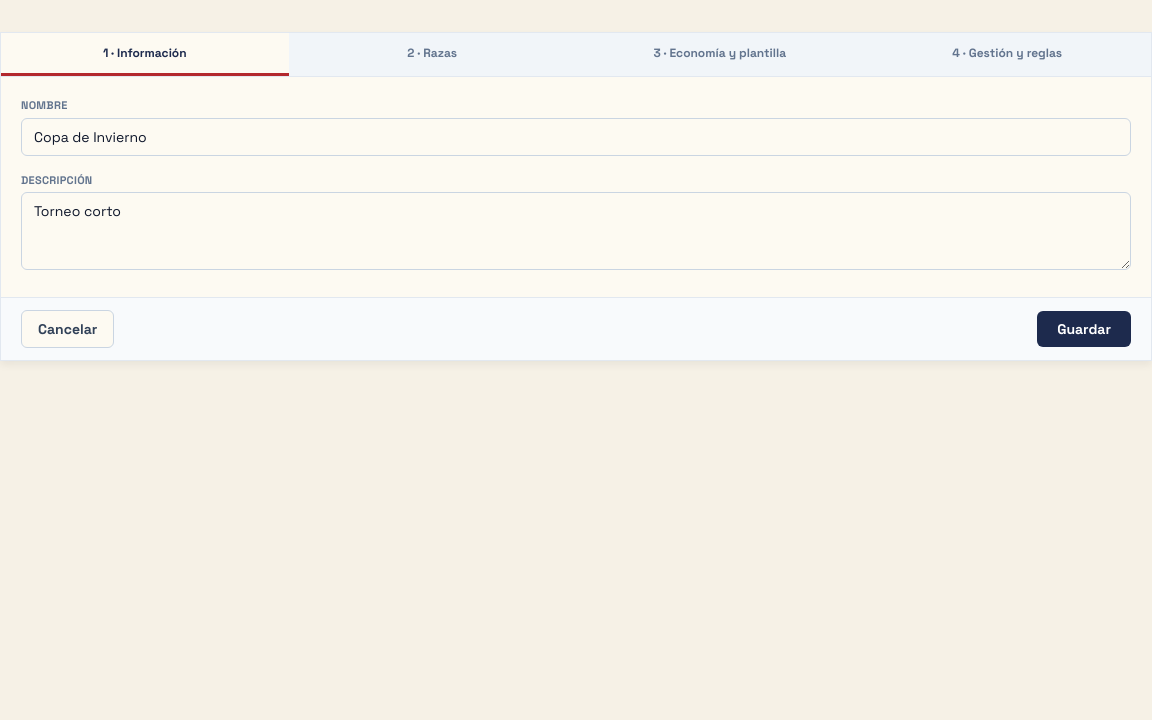
RulesetEditor › Descartar cambios resets the leaving tab's fields and navigates
Step 1. Replace the text in the field labelled "Nombre" with "Cambiado" → [576, 136], box left=21, top=118, right=1131, bottom=156
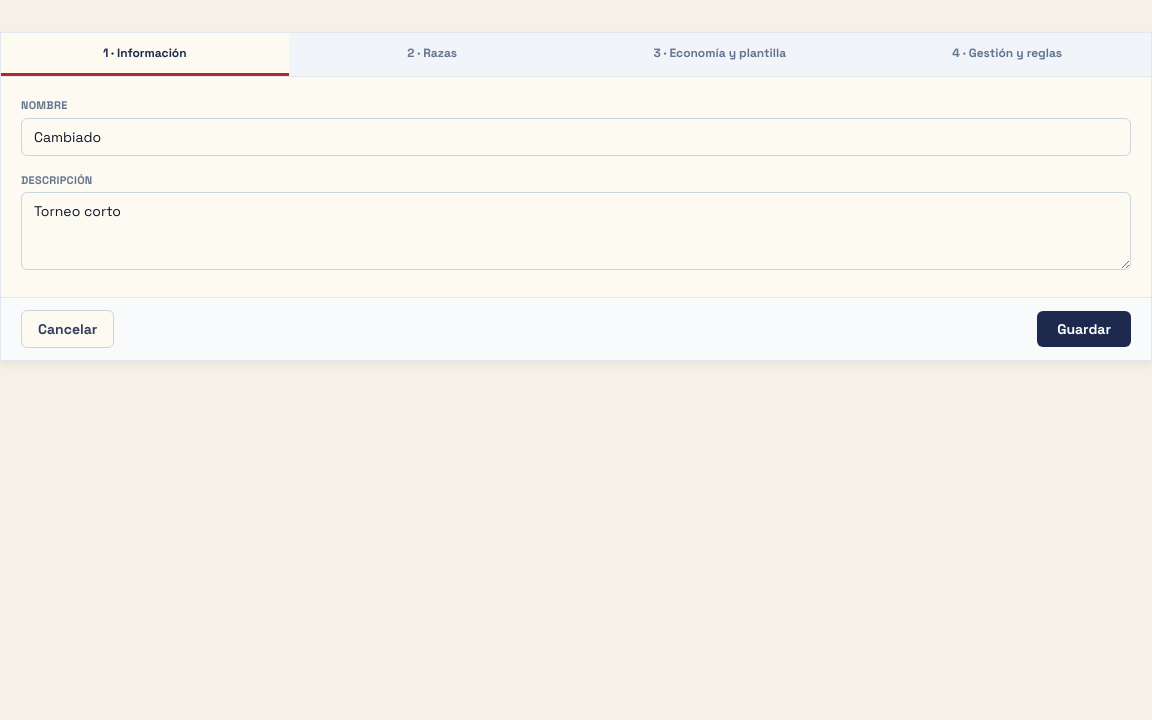
Step 2. Click the tab "2 · Razas" → [432, 54], box left=288, top=33, right=576, bottom=76
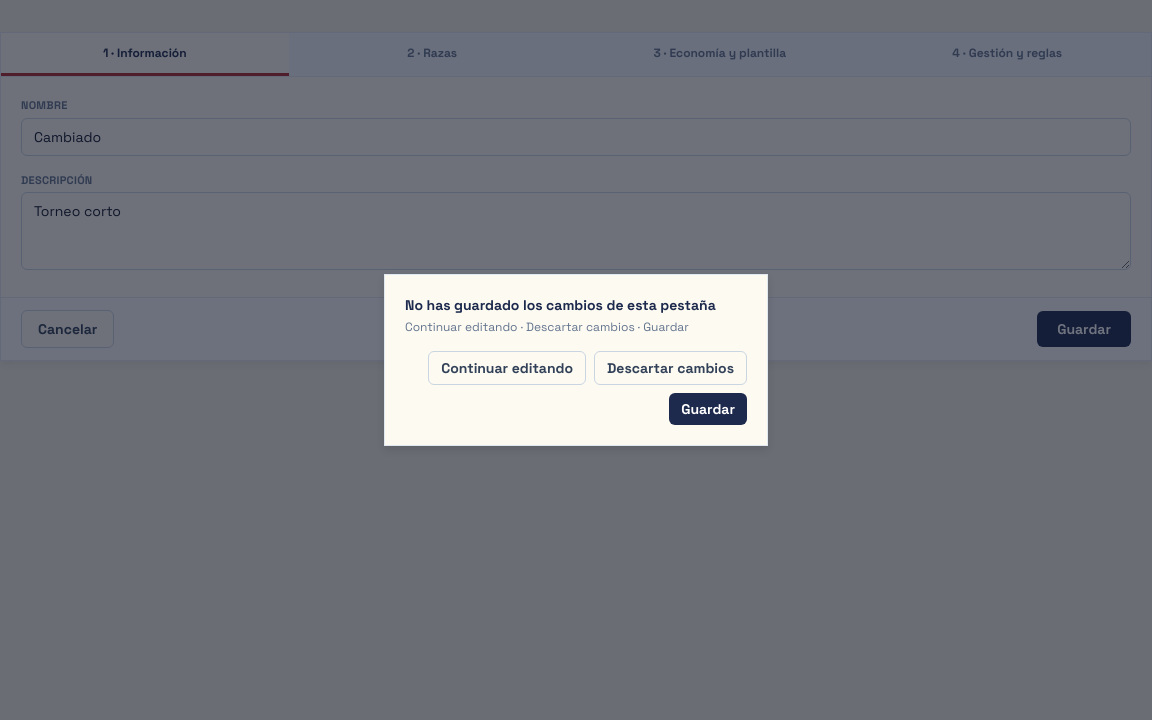
Step 3. Click the button "Descartar cambios" → [670, 368], box left=594, top=351, right=747, bottom=385
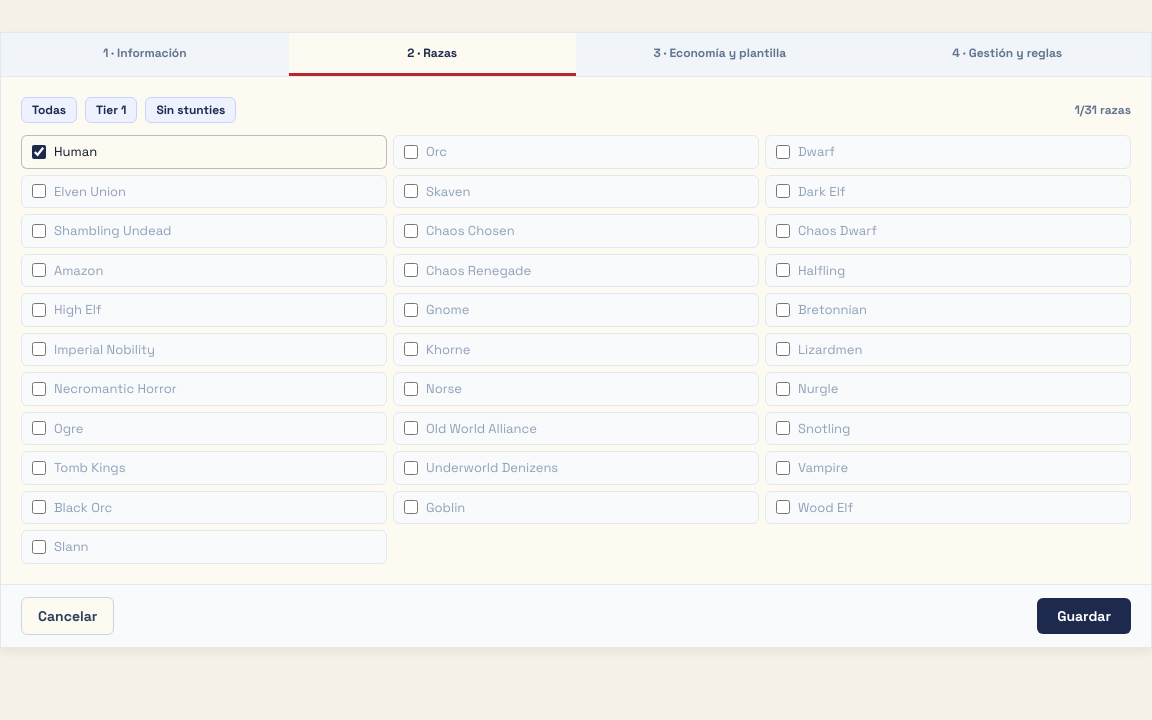
expect the dialog is gone: met
expect the checkbox labelled "Human" is shown: met, box left=32, top=145, right=46, bottom=159
// Back on the discarded tab the field is restored from the card.
Step 4. Click the tab "1 · Información" → [145, 54], box left=1, top=33, right=288, bottom=76
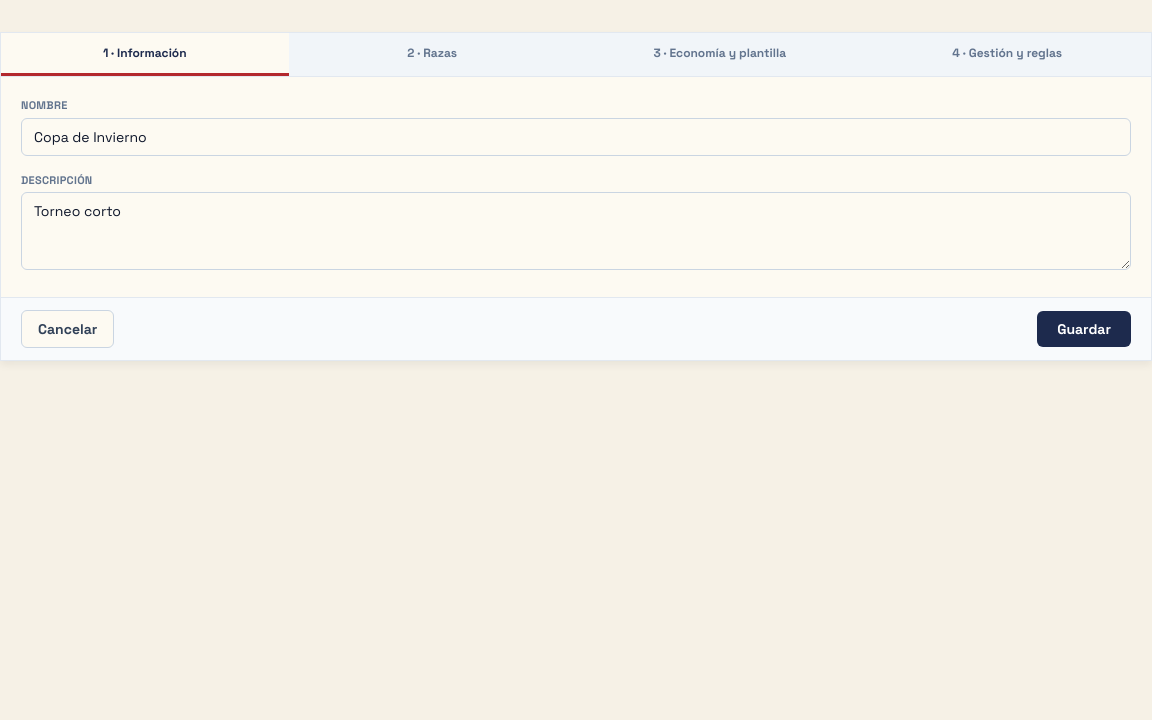
expect the field labelled "Nombre" holds "Copa de Invierno": met, box left=21, top=118, right=1131, bottom=156
